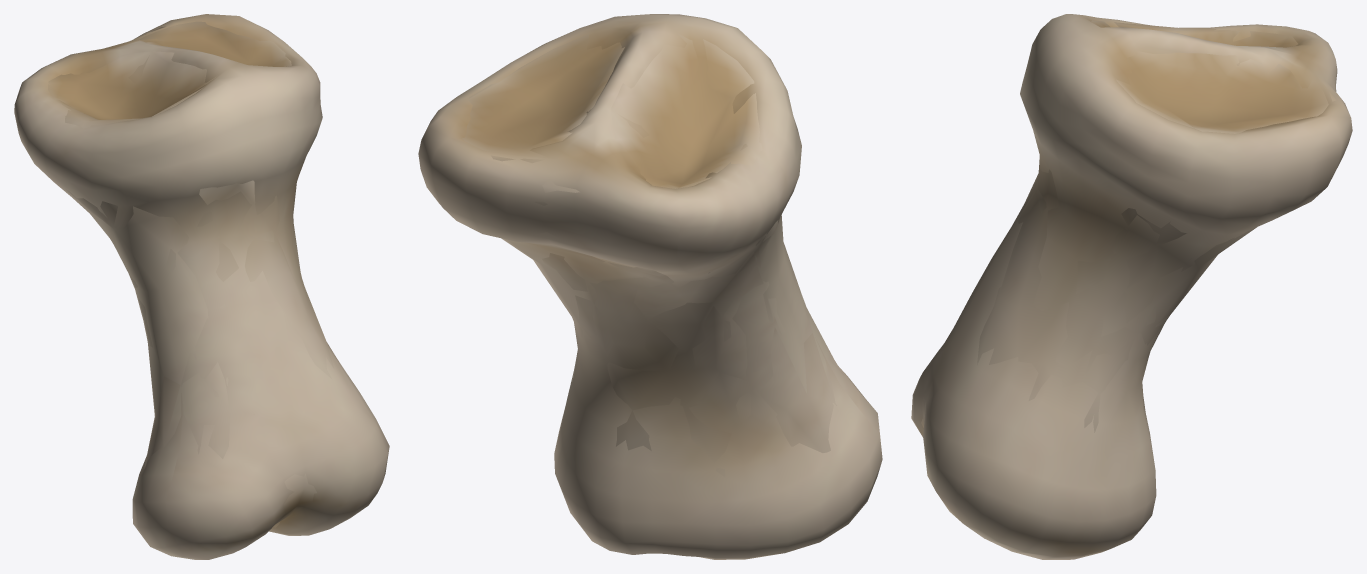
Rendered from FR 1st Phalanx.fbx.
3 renders of one model, left to right at view 1: azimuth 30°, elevation 25°; view 2: azimuth 150°, elevation 25°; view 3: azimuth 270°, elevation 25°, orthographic. The views are drawn at different scales.
Parts seen in each view (by area): view 1: FR 1st Phalanx, FR 1st Phalanx low; view 2: FR 1st Phalanx, FR 1st Phalanx low; view 3: FR 1st Phalanx, FR 1st Phalanx low.
Part boxes in pixels (x1,y1,x2,y2): FR 1st Phalanx: (14,14,389,559); FR 1st Phalanx low: (48,21,334,527); FR 1st Phalanx: (418,14,882,559); FR 1st Phalanx low: (462,33,844,553); FR 1st Phalanx: (911,14,1352,559); FR 1st Phalanx low: (921,20,1336,432).
Bounding box in the file's own units: 6.54 × 10.53 × 8.35.
1 material, 1 textured.
